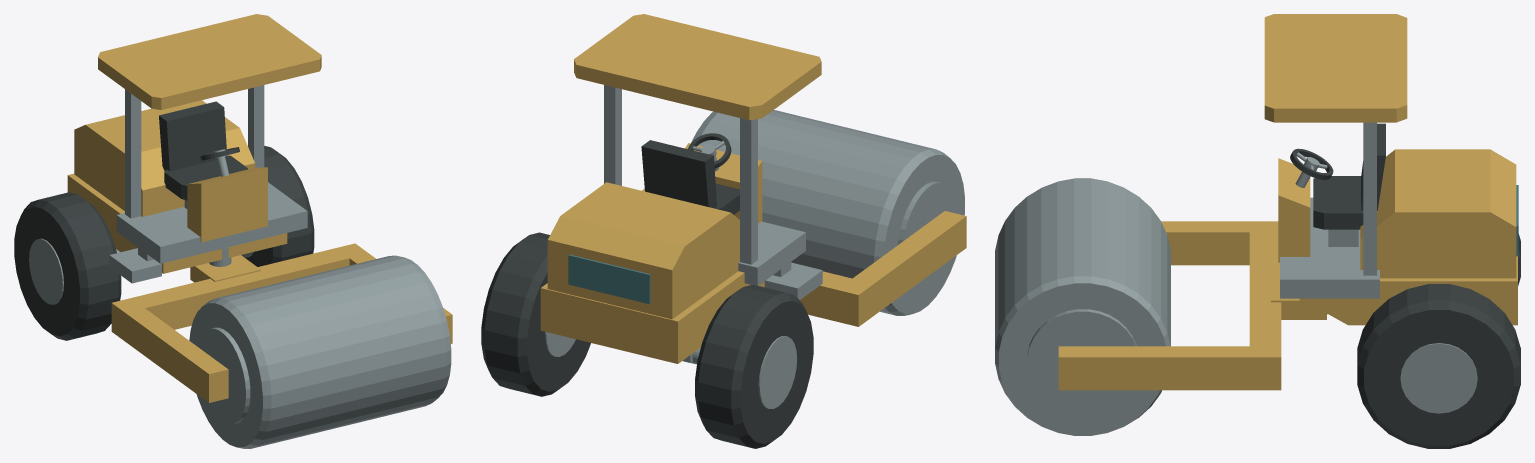
3 views of the same model, side by side, from view 1: azimuth 30°, elevation 25°; view 2: azimuth 150°, elevation 25°; view 3: azimuth 270°, elevation 25° (orthographic). The views are drawn at different scales.
Visible parts, largest first — view 1: WholeWideFrontSteelDrum, WholeShortOverheadCanopy, WholeOpenFrontDrumFork, WholeLeftRearTyre, WholeCompactSlopedRearBonnet, WholeForwardOperatorDeck, WholeForwardControlCowl, WholeFixedSeatBack, WholeTwoPostOpenOverheadFrame, WholeRightRearTyre, WholeRearUpperWaistAndChassis, WholeLeftRearHub (+3 smaller); view 2: WholeWideFrontSteelDrum, WholeCompactSlopedRearBonnet, WholeShortOverheadCanopy, WholeLeftRearTyre, WholeRightRearTyre, WholeRearUpperWaistAndChassis, WholeOpenFrontDrumFork, WholeTwoPostOpenOverheadFrame, WholeFixedSeatBack, WholeRearBlankInsetPanel, WholeForwardOperatorDeck, WholeLeftRearHub (+5 smaller); view 3: WholeWideFrontSteelDrum, WholeRightRearTyre, WholeCompactSlopedRearBonnet, WholeOpenFrontDrumFork, WholeShortOverheadCanopy, WholeForwardOperatorDeck, WholeRightRearHub, WholeRearUpperWaistAndChassis, WholeForwardControlCowl, WholeFixedSeatCushion, WholeTwoPostOpenOverheadFrame, WholeFrontLowerWaistTongue (+3 smaller).
Part boxes in pixels (bbox=[...]): WholeWideFrontSteelDrum: bbox=[189, 255, 451, 448]; WholeShortOverheadCanopy: bbox=[98, 14, 321, 109]; WholeOpenFrontDrumFork: bbox=[111, 243, 452, 402]; WholeLeftRearTyre: bbox=[14, 192, 121, 340]; WholeCompactSlopedRearBonnet: bbox=[74, 100, 255, 216]; WholeForwardOperatorDeck: bbox=[116, 182, 307, 263]; WholeForwardControlCowl: bbox=[187, 167, 267, 242]; WholeFixedSeatBack: bbox=[159, 101, 227, 171]; WholeTwoPostOpenOverheadFrame: bbox=[125, 85, 264, 218]; WholeRightRearTyre: bbox=[245, 146, 314, 266]; WholeRearUpperWaistAndChassis: bbox=[67, 173, 287, 273]; WholeLeftRearHub: bbox=[29, 238, 63, 304]; WholeWideFrontSteelDrum: bbox=[691, 110, 964, 315]; WholeCompactSlopedRearBonnet: bbox=[547, 182, 739, 319]; WholeShortOverheadCanopy: bbox=[574, 14, 821, 120]; WholeLeftRearTyre: bbox=[695, 284, 813, 448]; WholeRightRearTyre: bbox=[481, 232, 590, 396]; WholeRearUpperWaistAndChassis: bbox=[540, 271, 764, 363]; WholeOpenFrontDrumFork: bbox=[642, 189, 966, 326]; WholeTwoPostOpenOverheadFrame: bbox=[604, 85, 757, 264]; WholeFixedSeatBack: bbox=[641, 140, 716, 208]; WholeRearBlankInsetPanel: bbox=[568, 254, 650, 304]; WholeForwardOperatorDeck: bbox=[738, 221, 805, 285]; WholeLeftRearHub: bbox=[758, 336, 796, 408]; WholeWideFrontSteelDrum: bbox=[995, 178, 1170, 435]; WholeRightRearTyre: bbox=[1357, 284, 1520, 448]; WholeCompactSlopedRearBonnet: bbox=[1360, 149, 1516, 278]; WholeOpenFrontDrumFork: bbox=[1058, 221, 1281, 390]; WholeShortOverheadCanopy: bbox=[1264, 14, 1407, 122]; WholeForwardOperatorDeck: bbox=[1280, 197, 1379, 298]; WholeRightRearHub: bbox=[1400, 343, 1477, 413]; WholeRearUpperWaistAndChassis: bbox=[1299, 256, 1517, 325]; WholeForwardControlCowl: bbox=[1278, 158, 1310, 262]; WholeFixedSeatCushion: bbox=[1313, 176, 1363, 229]; WholeTwoPostOpenOverheadFrame: bbox=[1363, 122, 1376, 275]; WholeFrontLowerWaistTongue: bbox=[1271, 275, 1326, 319].
Bounding box in the file's own units: 2.12 × 2.37 × 3.47.
